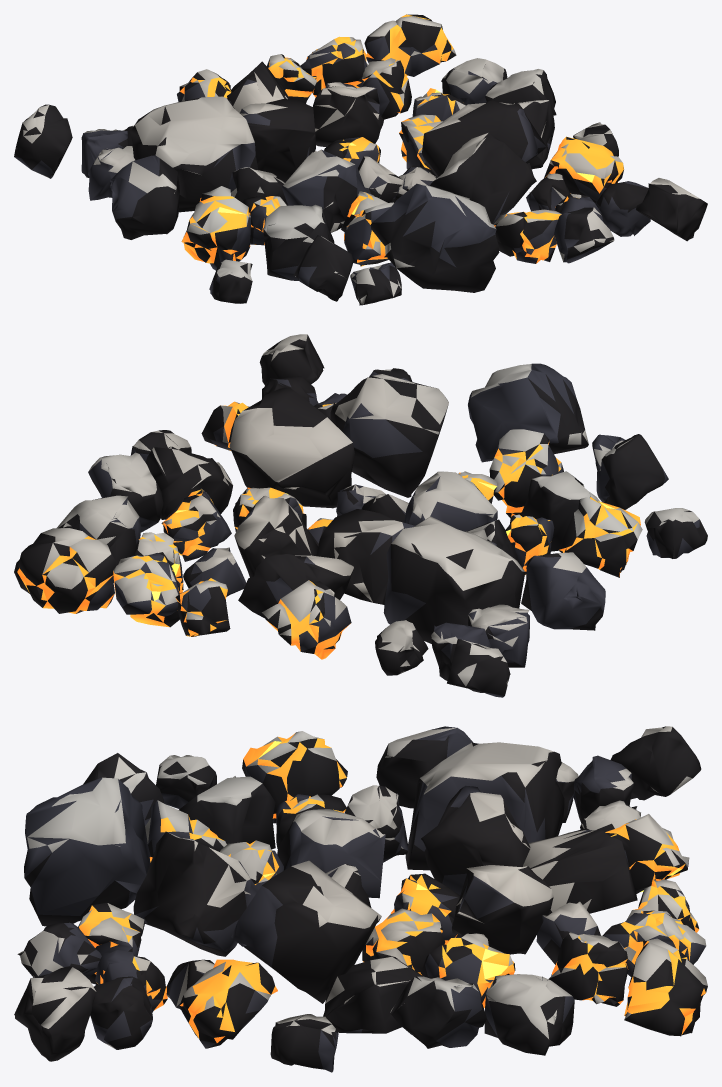
The model's file is ember_coal_bed_b.glb.
The picture shows the model from 3 angles, top to bottom: view 1: azimuth 30°, elevation 25°; view 2: azimuth 150°, elevation 25°; view 3: azimuth 270°, elevation 25°; orthographic projection. The views are drawn at different scales.
Visible parts, largest first — view 1: ember_coal_bed_b; view 2: ember_coal_bed_b; view 3: ember_coal_bed_b.
Part boxes in pixels (x1,y1,x2,y2): ember_coal_bed_b: (14,14,707,305); ember_coal_bed_b: (14,334,707,697); ember_coal_bed_b: (14,726,707,1072).
Size of the model in its own units: 11.93 by 2.47 by 11.95.
